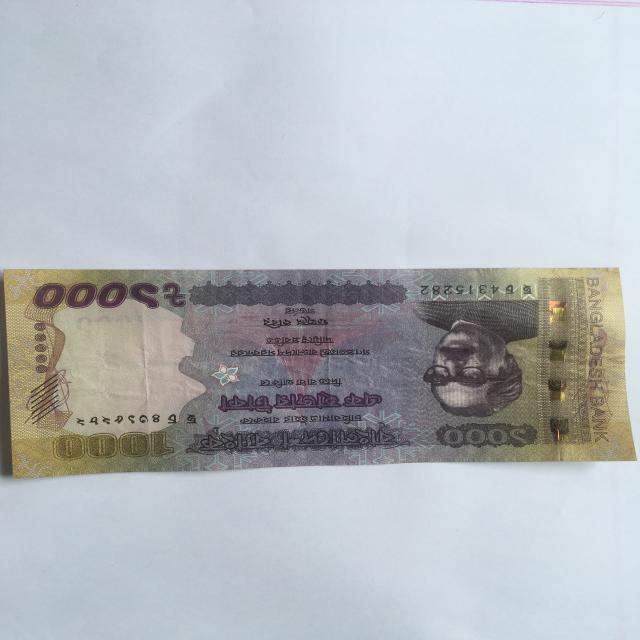Taka: (5, 258, 638, 471)
